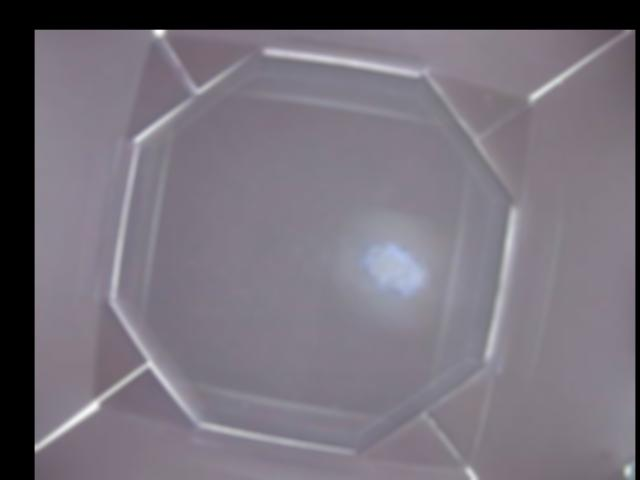Pebble: (365, 238, 427, 296)
